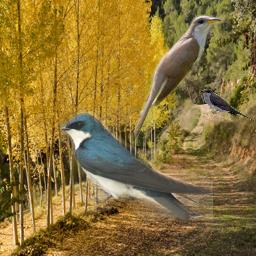Cuckoo: (128, 15, 222, 146), (199, 89, 255, 122)
Swallow: (60, 112, 213, 221)
